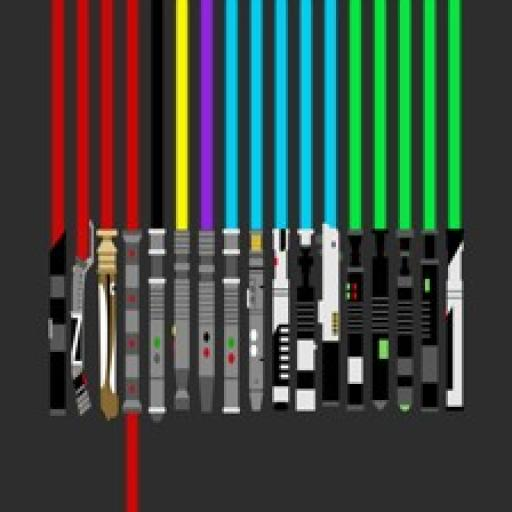lightsaber: (390, 11, 419, 411), (242, 8, 270, 404), (292, 9, 320, 405), (343, 9, 370, 402), (218, 7, 244, 411), (318, 8, 342, 408), (418, 15, 442, 409), (368, 14, 392, 408), (268, 7, 292, 401), (195, 6, 218, 405), (170, 7, 191, 407), (146, 4, 166, 421), (448, 0, 465, 415), (355, 0, 376, 232), (310, 0, 328, 237), (407, 0, 425, 237)
sith saber: (120, 12, 141, 504), (95, 12, 120, 422), (70, 7, 94, 414), (48, 6, 71, 412)
